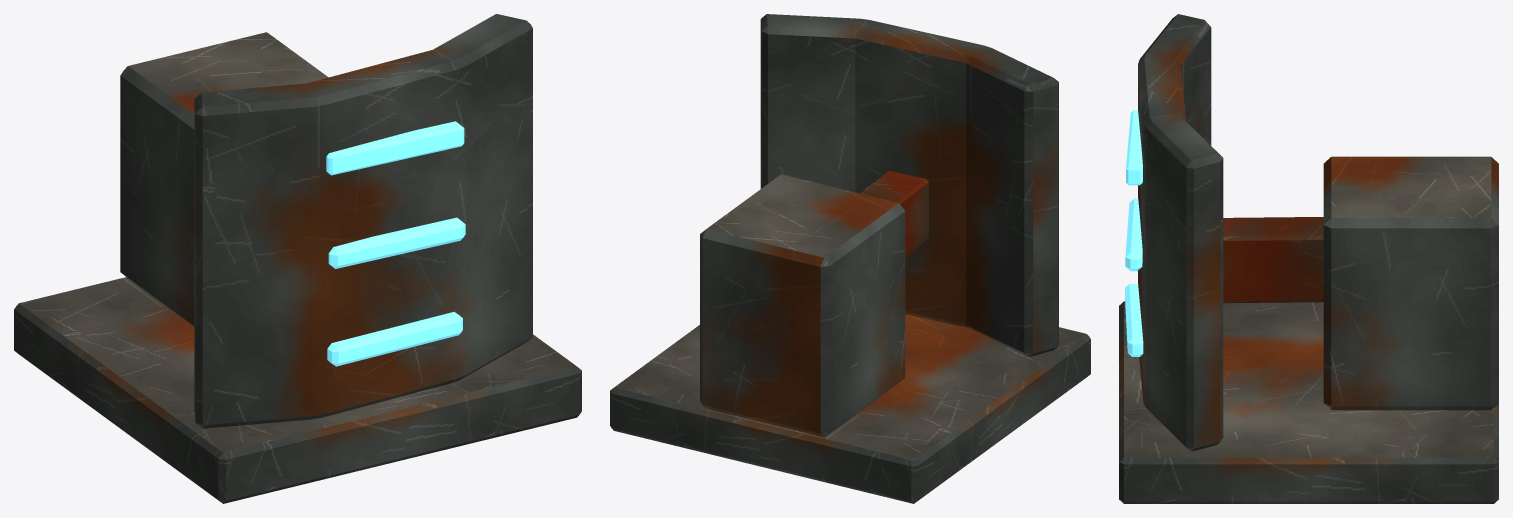
The model's file is R4X_DirectionalShield_LOD1.glb.
3 views of the same model, side by side, from view 1: azimuth 30°, elevation 25°; view 2: azimuth 150°, elevation 25°; view 3: azimuth 270°, elevation 25° (orthographic). The views are drawn at different scales.
Parts seen in each view (by area): view 1: R4X_DirectionalShield_LOD1; view 2: R4X_DirectionalShield_LOD1; view 3: R4X_DirectionalShield_LOD1.
Boxes of the visible parts, bbox=[...] form: R4X_DirectionalShield_LOD1: bbox=[14, 14, 581, 503]; R4X_DirectionalShield_LOD1: bbox=[610, 14, 1090, 503]; R4X_DirectionalShield_LOD1: bbox=[1119, 14, 1498, 503].
Size of the model in its own units: 0.52 by 0.51 by 0.52.
Materials: 4 (3 with a texture image).
